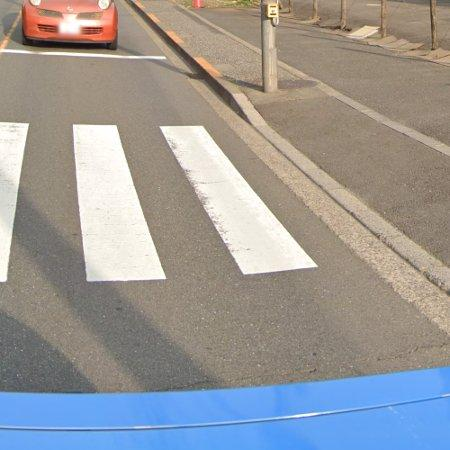crosswalks: (0, 121, 323, 285)
